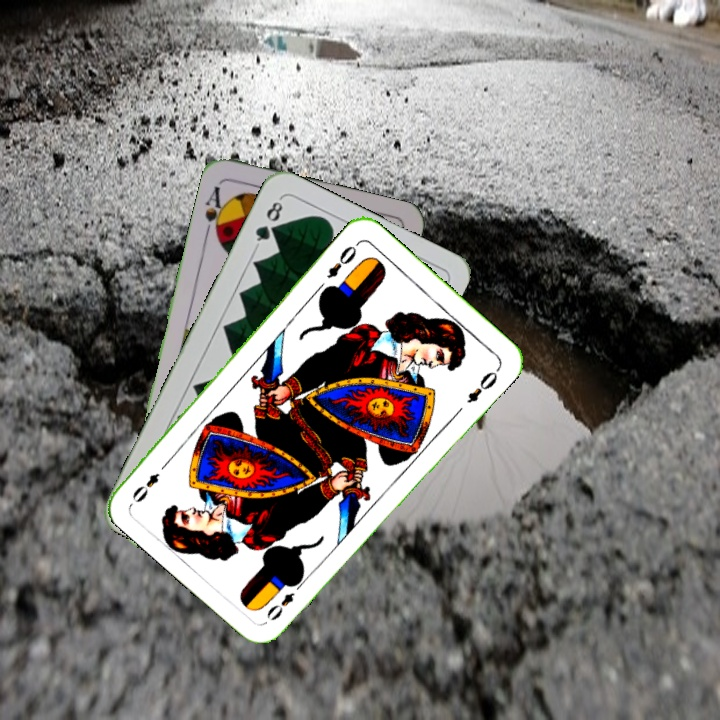EO: (262, 576, 307, 624), (322, 238, 362, 281)
G8: (251, 194, 286, 249)
SA: (200, 182, 230, 241)
